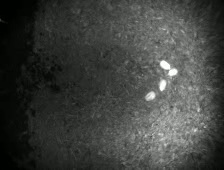corn: (143, 88, 158, 103), (157, 58, 172, 72), (167, 65, 181, 79), (158, 78, 168, 93)
